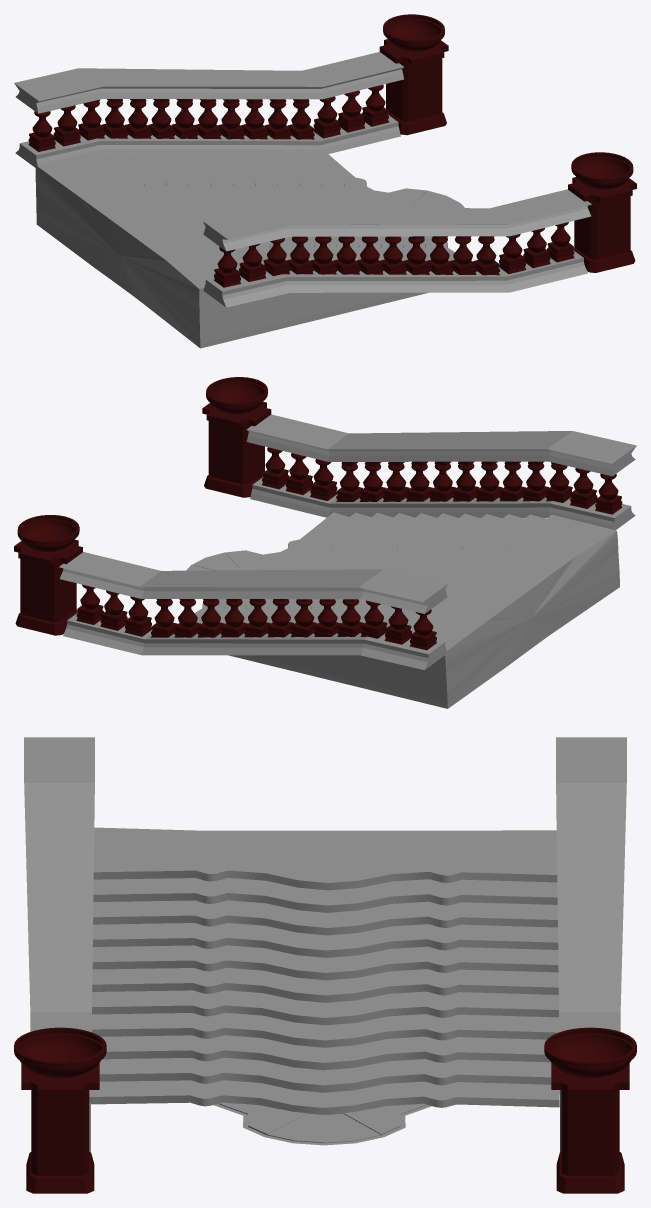
File: escaleras palacio.FBX
3 views of the same model, one above another, from view 1: azimuth 30°, elevation 25°; view 2: azimuth 150°, elevation 25°; view 3: azimuth 270°, elevation 25° (orthographic). The views are drawn at different scales.
Visible parts, largest first — view 1: Escaleras palacio, Object002; view 2: Escaleras palacio, Object002; view 3: Escaleras palacio, Object002.
Part boxes in pixels (x1,y1,x2,y2): Escaleras palacio: (14, 52, 591, 348); Object002: (28, 14, 636, 287); Escaleras palacio: (59, 414, 636, 708); Object002: (14, 377, 622, 650); Escaleras palacio: (24, 737, 626, 1152); Object002: (14, 1027, 636, 1193).
Bounding box in the file's own units: 926 × 264 × 847.
